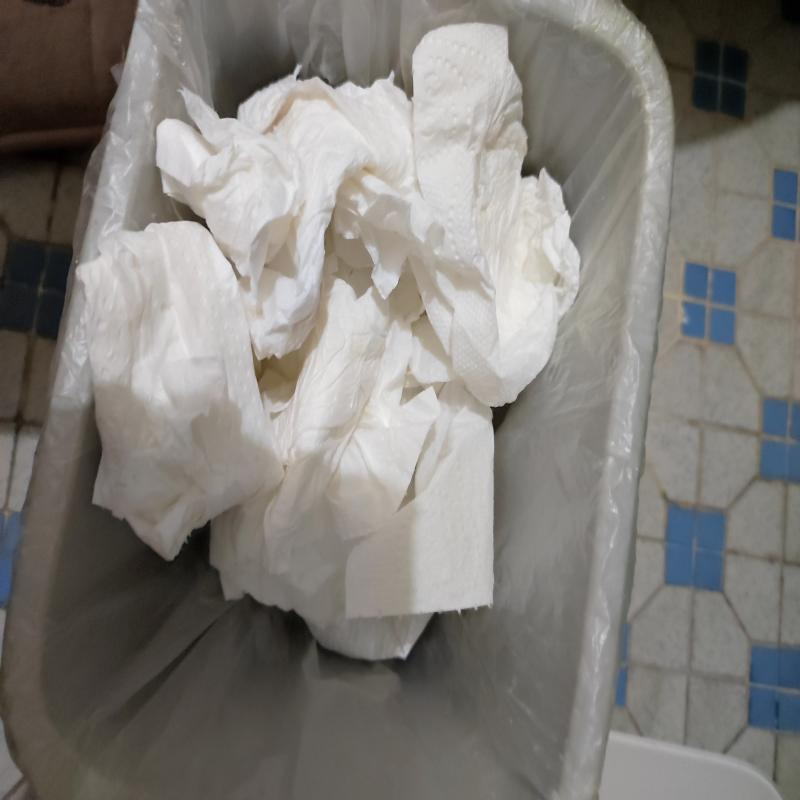paper: (155, 67, 423, 362), (259, 274, 453, 634), (80, 222, 284, 562), (408, 23, 581, 409), (333, 384, 498, 623), (332, 168, 424, 300)
